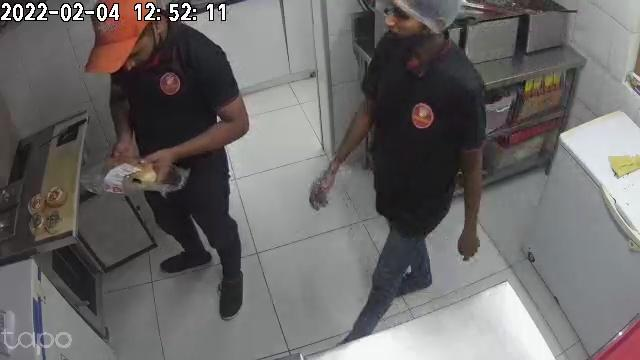no_gloves: (457, 216, 482, 259)
